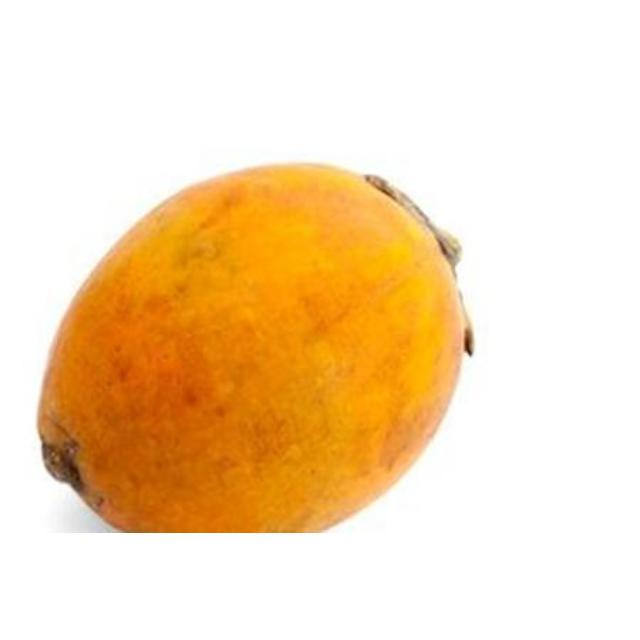good: (38, 165, 468, 532)
